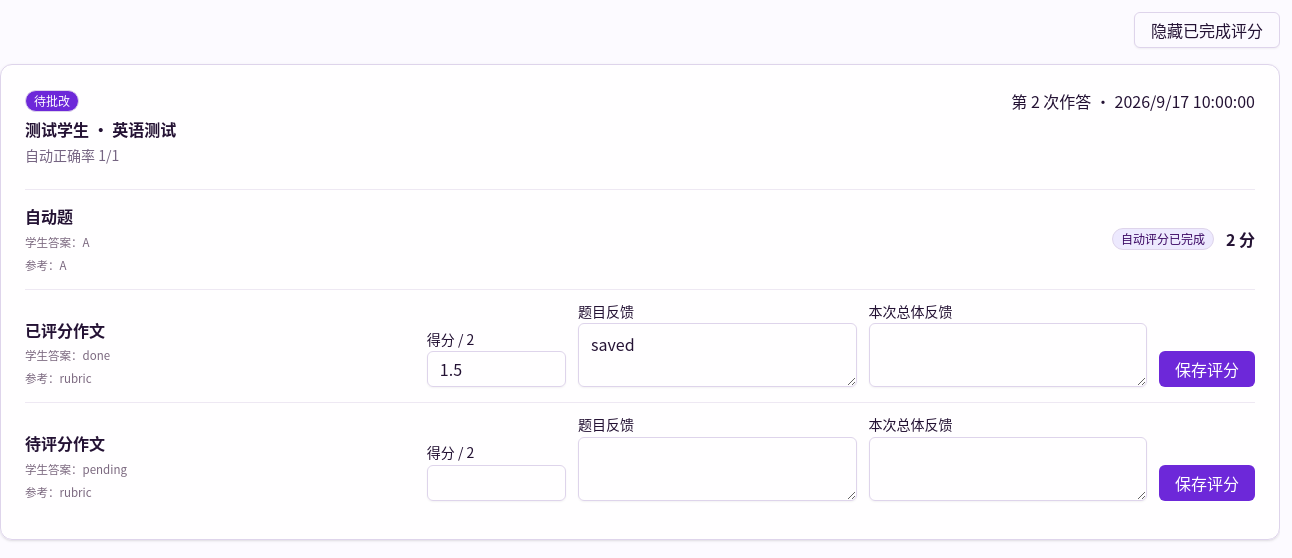
review completion filter › shows everything by default, hides completed work, and restores it
The width and height of the screenshot is (1292, 558).
Expected: the element with test id "review-response-auto-1" is shown, [25, 189, 1255, 288]
Expected: the form with test id "review-response-manual-done" is shown, [25, 288, 1255, 402]
Click the button "隐藏已完成评分": (1207, 30) [1134, 12, 1280, 48]
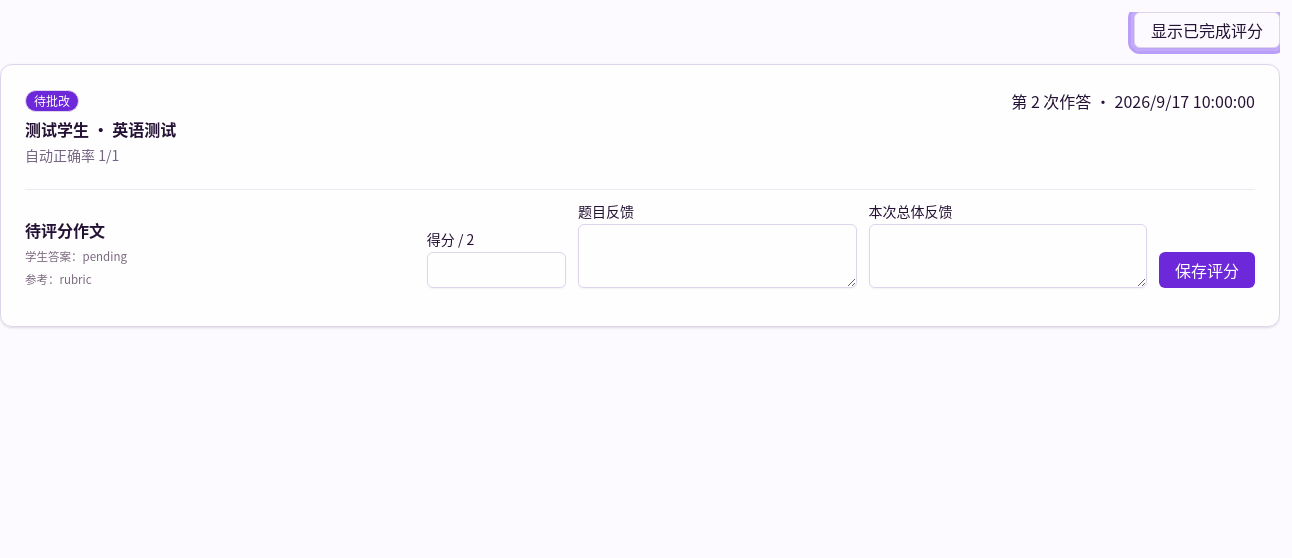
Expected: the form with test id "review-response-manual-pending" is shown, [25, 189, 1255, 302]
Expected: the element with test id "review-response-auto-1" is gone
Expected: the form with test id "review-response-manual-done" is gone
Click the button "显示已完成评分": (1207, 30) [1134, 12, 1280, 48]
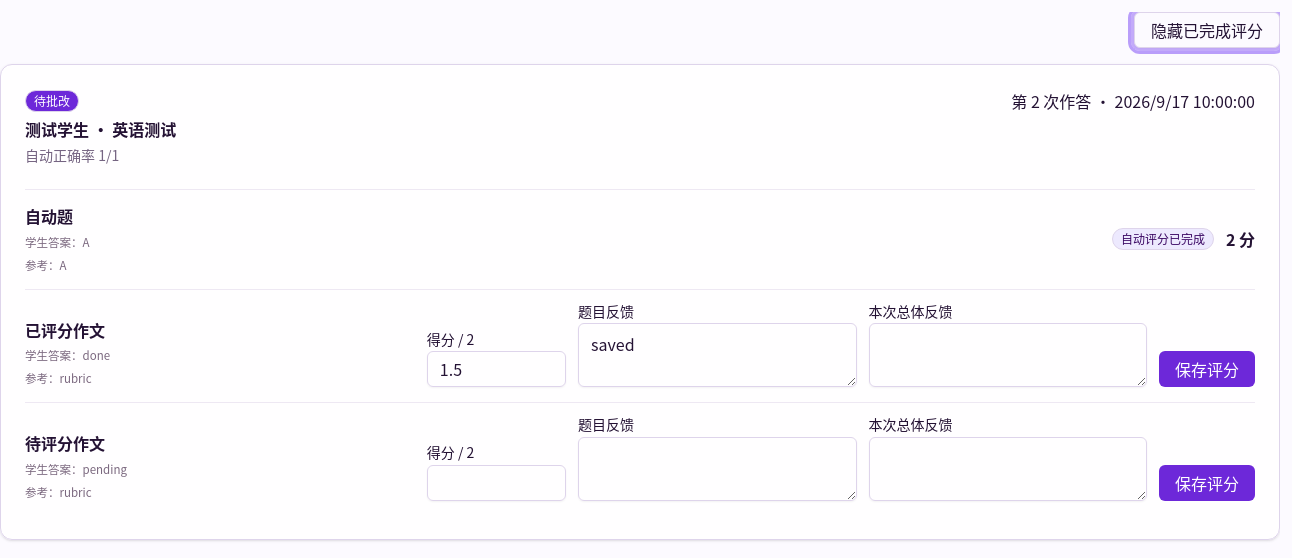
Expected: the element with test id "review-response-auto-1" is shown, [25, 189, 1255, 288]
Expected: the form with test id "review-response-manual-done" is shown, [25, 288, 1255, 402]
